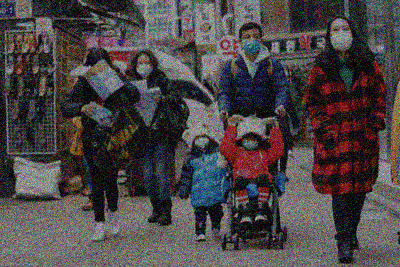with_mask: (330, 23, 353, 52), (241, 32, 261, 54), (136, 59, 153, 76), (194, 132, 210, 148), (243, 136, 258, 150)
